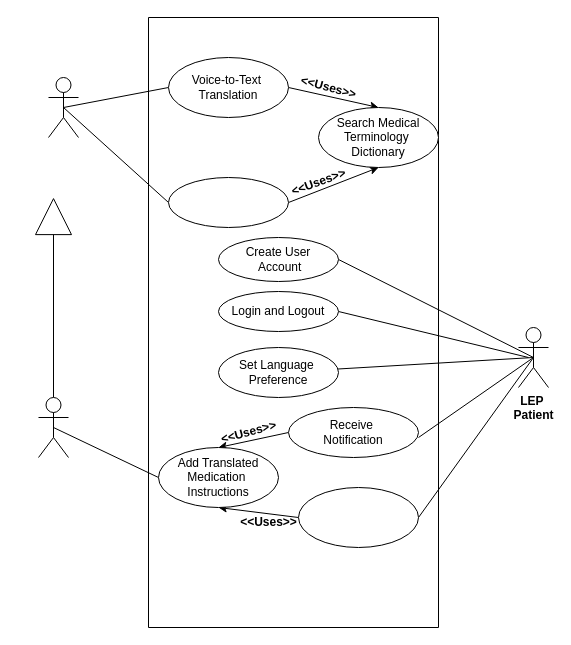
The diagram is 571 pixels wide and 645 high, and some of its shapes have lost their labels. Each missing label, with the centre of its shape:
"Add Medical Script Transcription" belongs at pixel 228 202.
"Doctor" belongs at pixel 53 427.
"Healthcare Worker" belongs at pixel 63 107.
"Store Medical Records" belongs at pixel 358 517.
